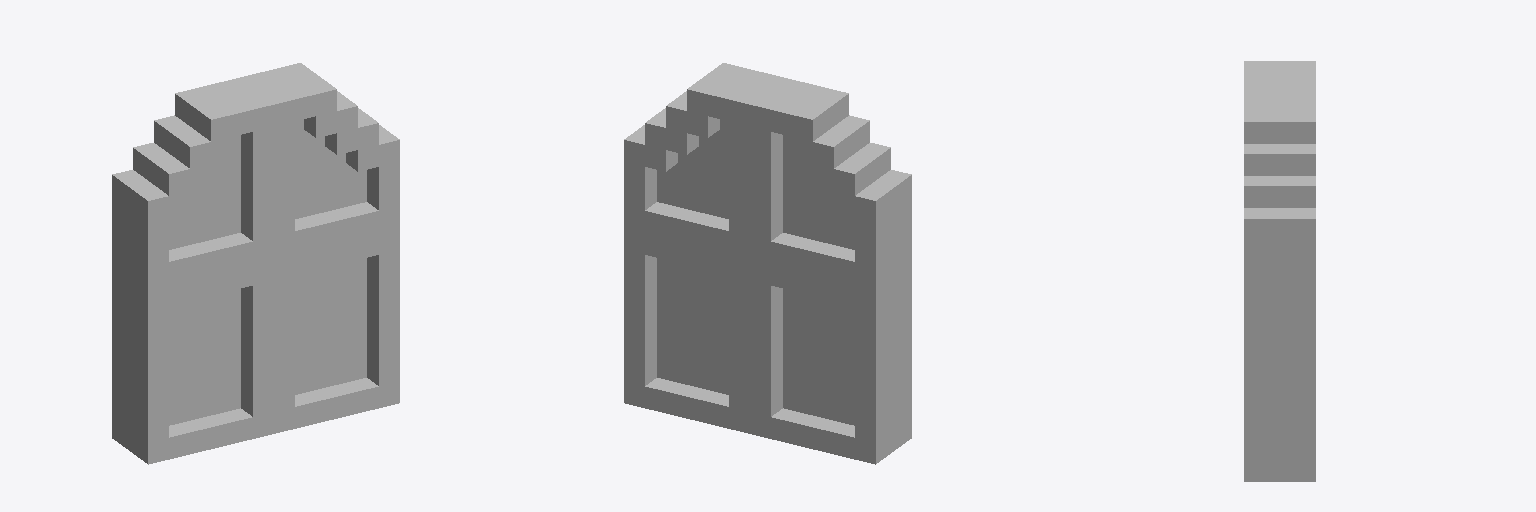
Rendered from Interior_Furniture _Misc_Window_02.obj.
3 views of the same model, side by side, from view 1: azimuth 30°, elevation 25°; view 2: azimuth 150°, elevation 25°; view 3: azimuth 270°, elevation 25° (orthographic).
Parts seen in each view (by area): view 1: object 1; view 2: object 1; view 3: object 1.
Boxes of the visible parts, x1=… form: object 1: x1=112, y1=63, x2=399, y2=464; object 1: x1=624, y1=63, x2=911, y2=464; object 1: x1=1244, y1=61, x2=1315, y2=481.
Size of the model in its own units: 1.2 by 1.5 by 0.3.